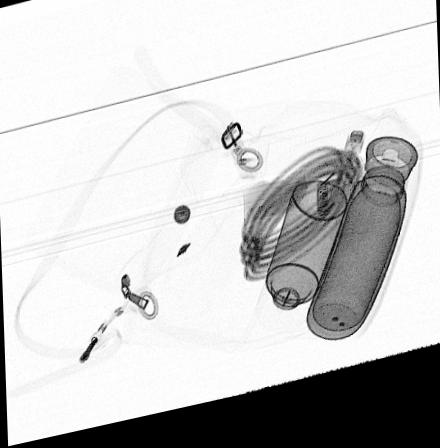Sprayer: (254, 194, 348, 352)
